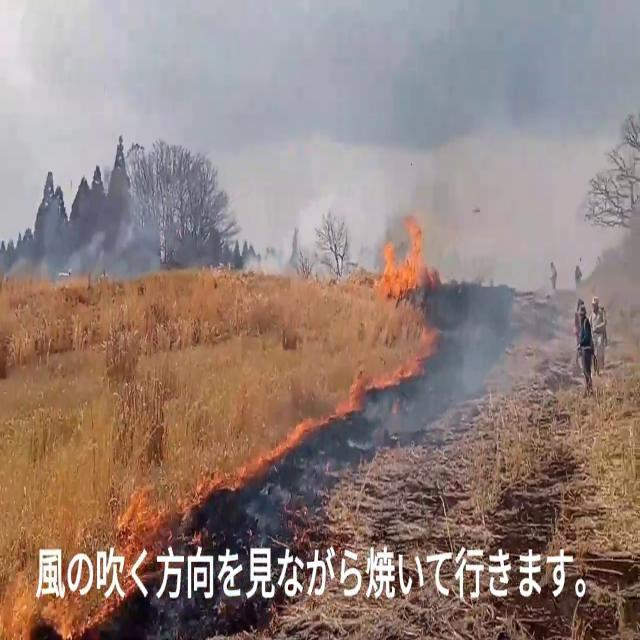Fire: (374, 207, 434, 304), (334, 363, 368, 421)
